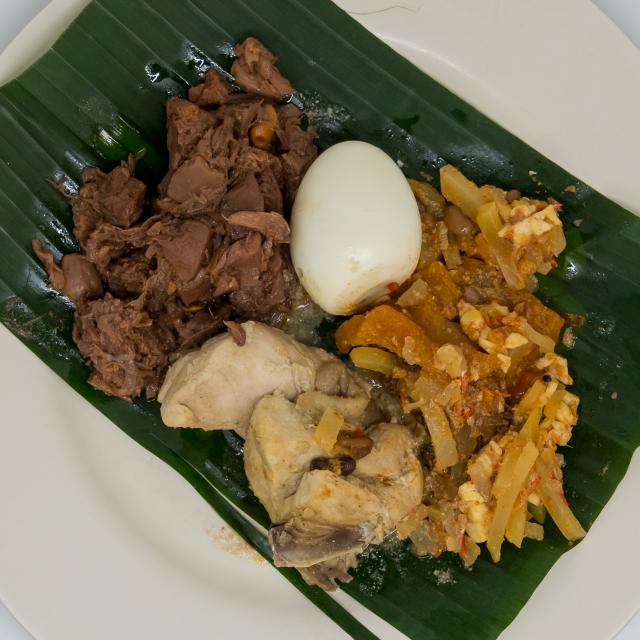Gudeg-Jogja: (16, 18, 597, 611)
